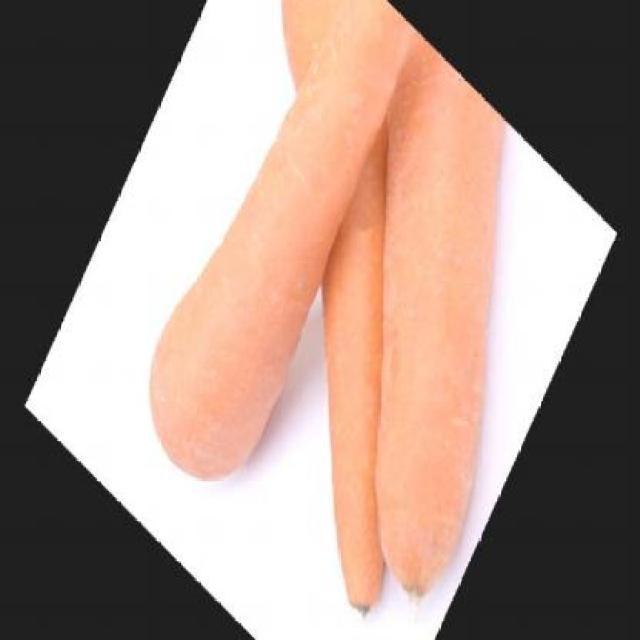carrot: (108, 0, 566, 626), (200, 0, 605, 617), (122, 0, 436, 522)
